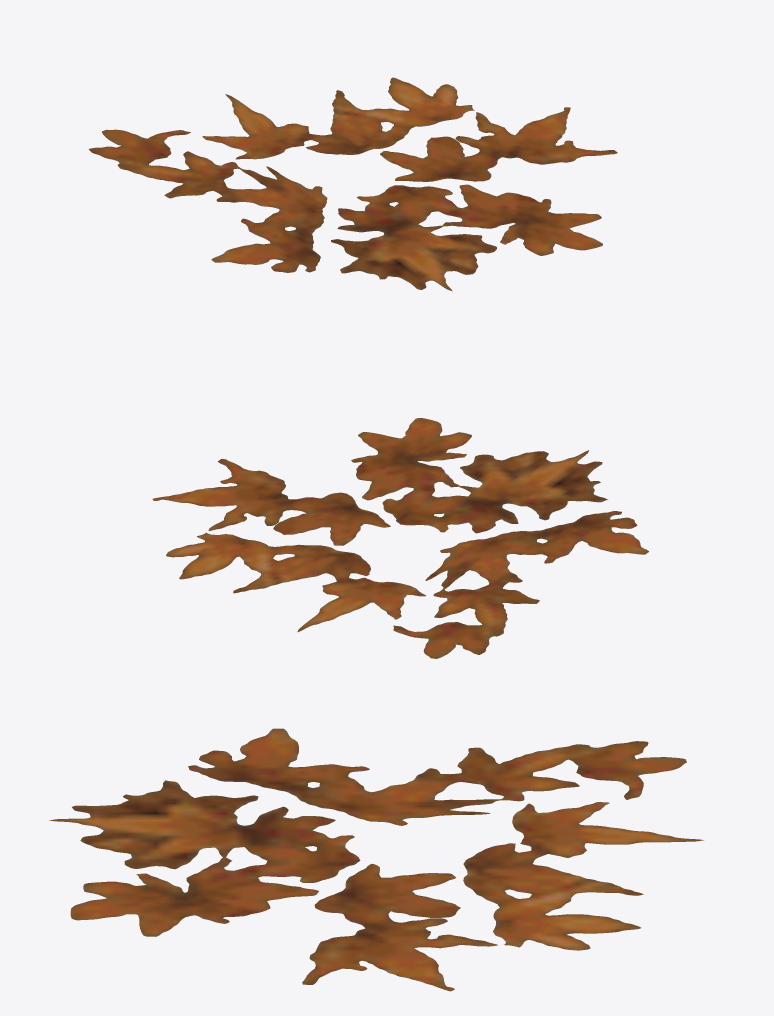
File: 7003_Item_luoye_1.FBX
The picture shows the model from 3 angles, top to bottom: view 1: azimuth 30°, elevation 25°; view 2: azimuth 150°, elevation 25°; view 3: azimuth 270°, elevation 25°; orthographic projection. The views are drawn at different scales.
Parts seen in each view (by area): view 1: 7003_Item_luoye_1; view 2: 7003_Item_luoye_1; view 3: 7003_Item_luoye_1.
Boxes of the visible parts, bbox=[...] form: 7003_Item_luoye_1: bbox=[89, 77, 617, 291]; 7003_Item_luoye_1: bbox=[152, 418, 648, 658]; 7003_Item_luoye_1: bbox=[49, 728, 703, 991].
Bounding box in the file's own units: 80.3 × 90.78 × 0.
Materials: 1 (1 with a texture image).
